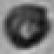correct: (2, 4, 52, 48)
